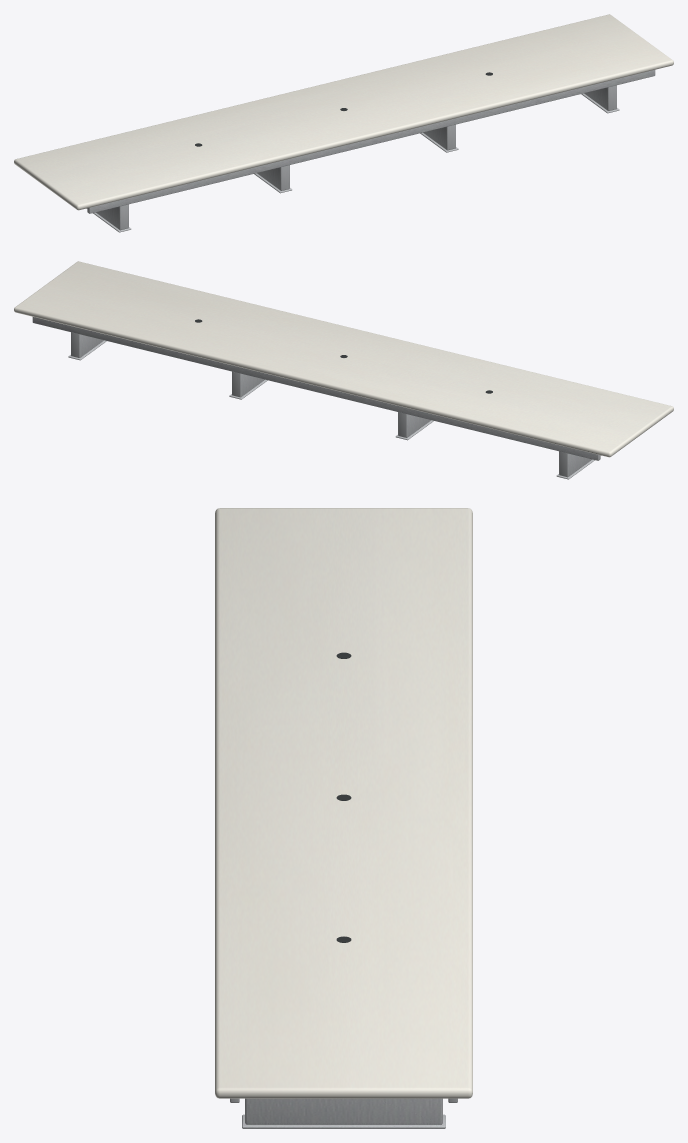
The model's file is boardroom_table.glb.
The picture shows the model from 3 angles, top to bottom: view 1: azimuth 30°, elevation 25°; view 2: azimuth 150°, elevation 25°; view 3: azimuth 270°, elevation 25°; orthographic projection. The views are drawn at different scales.
Visible parts, largest first — view 1: Continuous 11.5m conference tabletop, Continuous steel apron, Steel pedestal.001, Steel pedestal, Steel pedestal.002, Steel pedestal.003; view 2: Continuous 11.5m conference tabletop, Continuous steel apron.001, Steel pedestal.001, Steel pedestal, Steel pedestal.002, Steel pedestal.003; view 3: Continuous 11.5m conference tabletop, Steel pedestal.003, Steel floor shoe.003.
Boxes of the visible parts, x1=… form: Continuous 11.5m conference tabletop: x1=14, y1=14, x2=673, y2=210; Continuous steel apron: x1=87, y1=70, x2=655, y2=213; Steel pedestal.001: x1=257, y1=165, x2=289, y2=190; Steel pedestal: x1=96, y1=204, x2=128, y2=230; Steel pedestal.002: x1=423, y1=124, x2=455, y2=150; Steel pedestal.003: x1=584, y1=85, x2=616, y2=110; Continuous 11.5m conference tabletop: x1=14, y1=261, x2=673, y2=457; Continuous steel apron.001: x1=32, y1=317, x2=600, y2=460; Steel pedestal.001: x1=398, y1=412, x2=430, y2=437; Steel pedestal: x1=559, y1=451, x2=591, y2=477; Steel pedestal.002: x1=232, y1=371, x2=264, y2=397; Steel pedestal.003: x1=71, y1=332, x2=103, y2=357; Continuous 11.5m conference tabletop: x1=215, y1=508, x2=472, y2=1098; Steel pedestal.003: x1=245, y1=1098, x2=442, y2=1124; Steel floor shoe.003: x1=242, y1=1114, x2=445, y2=1128.
Size of the model in its own units: 11.5 by 0.8025 by 2.15.
3 materials, 2 textured.
